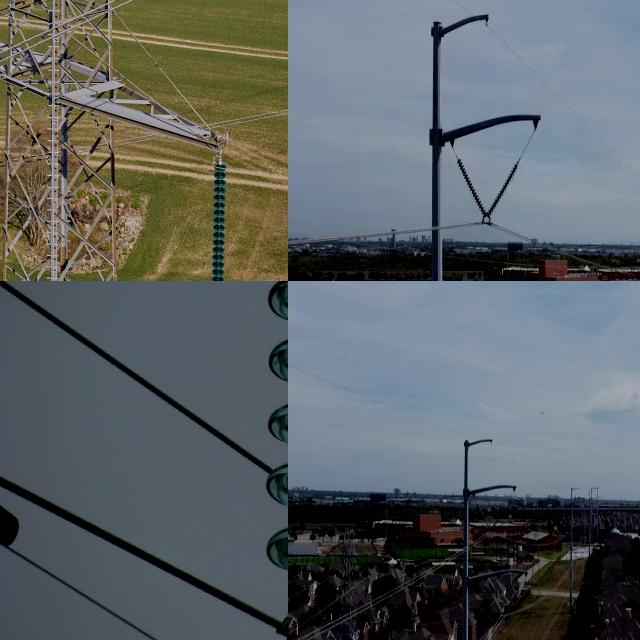杆塔: (0, 0, 237, 281), (322, 512, 382, 640)
正常电缆: (0, 281, 264, 481), (0, 464, 288, 640)
正常绝缘子: (477, 152, 525, 235), (208, 148, 234, 281), (453, 150, 493, 228), (487, 500, 511, 537), (499, 587, 520, 621), (486, 581, 505, 618), (474, 501, 493, 535)
